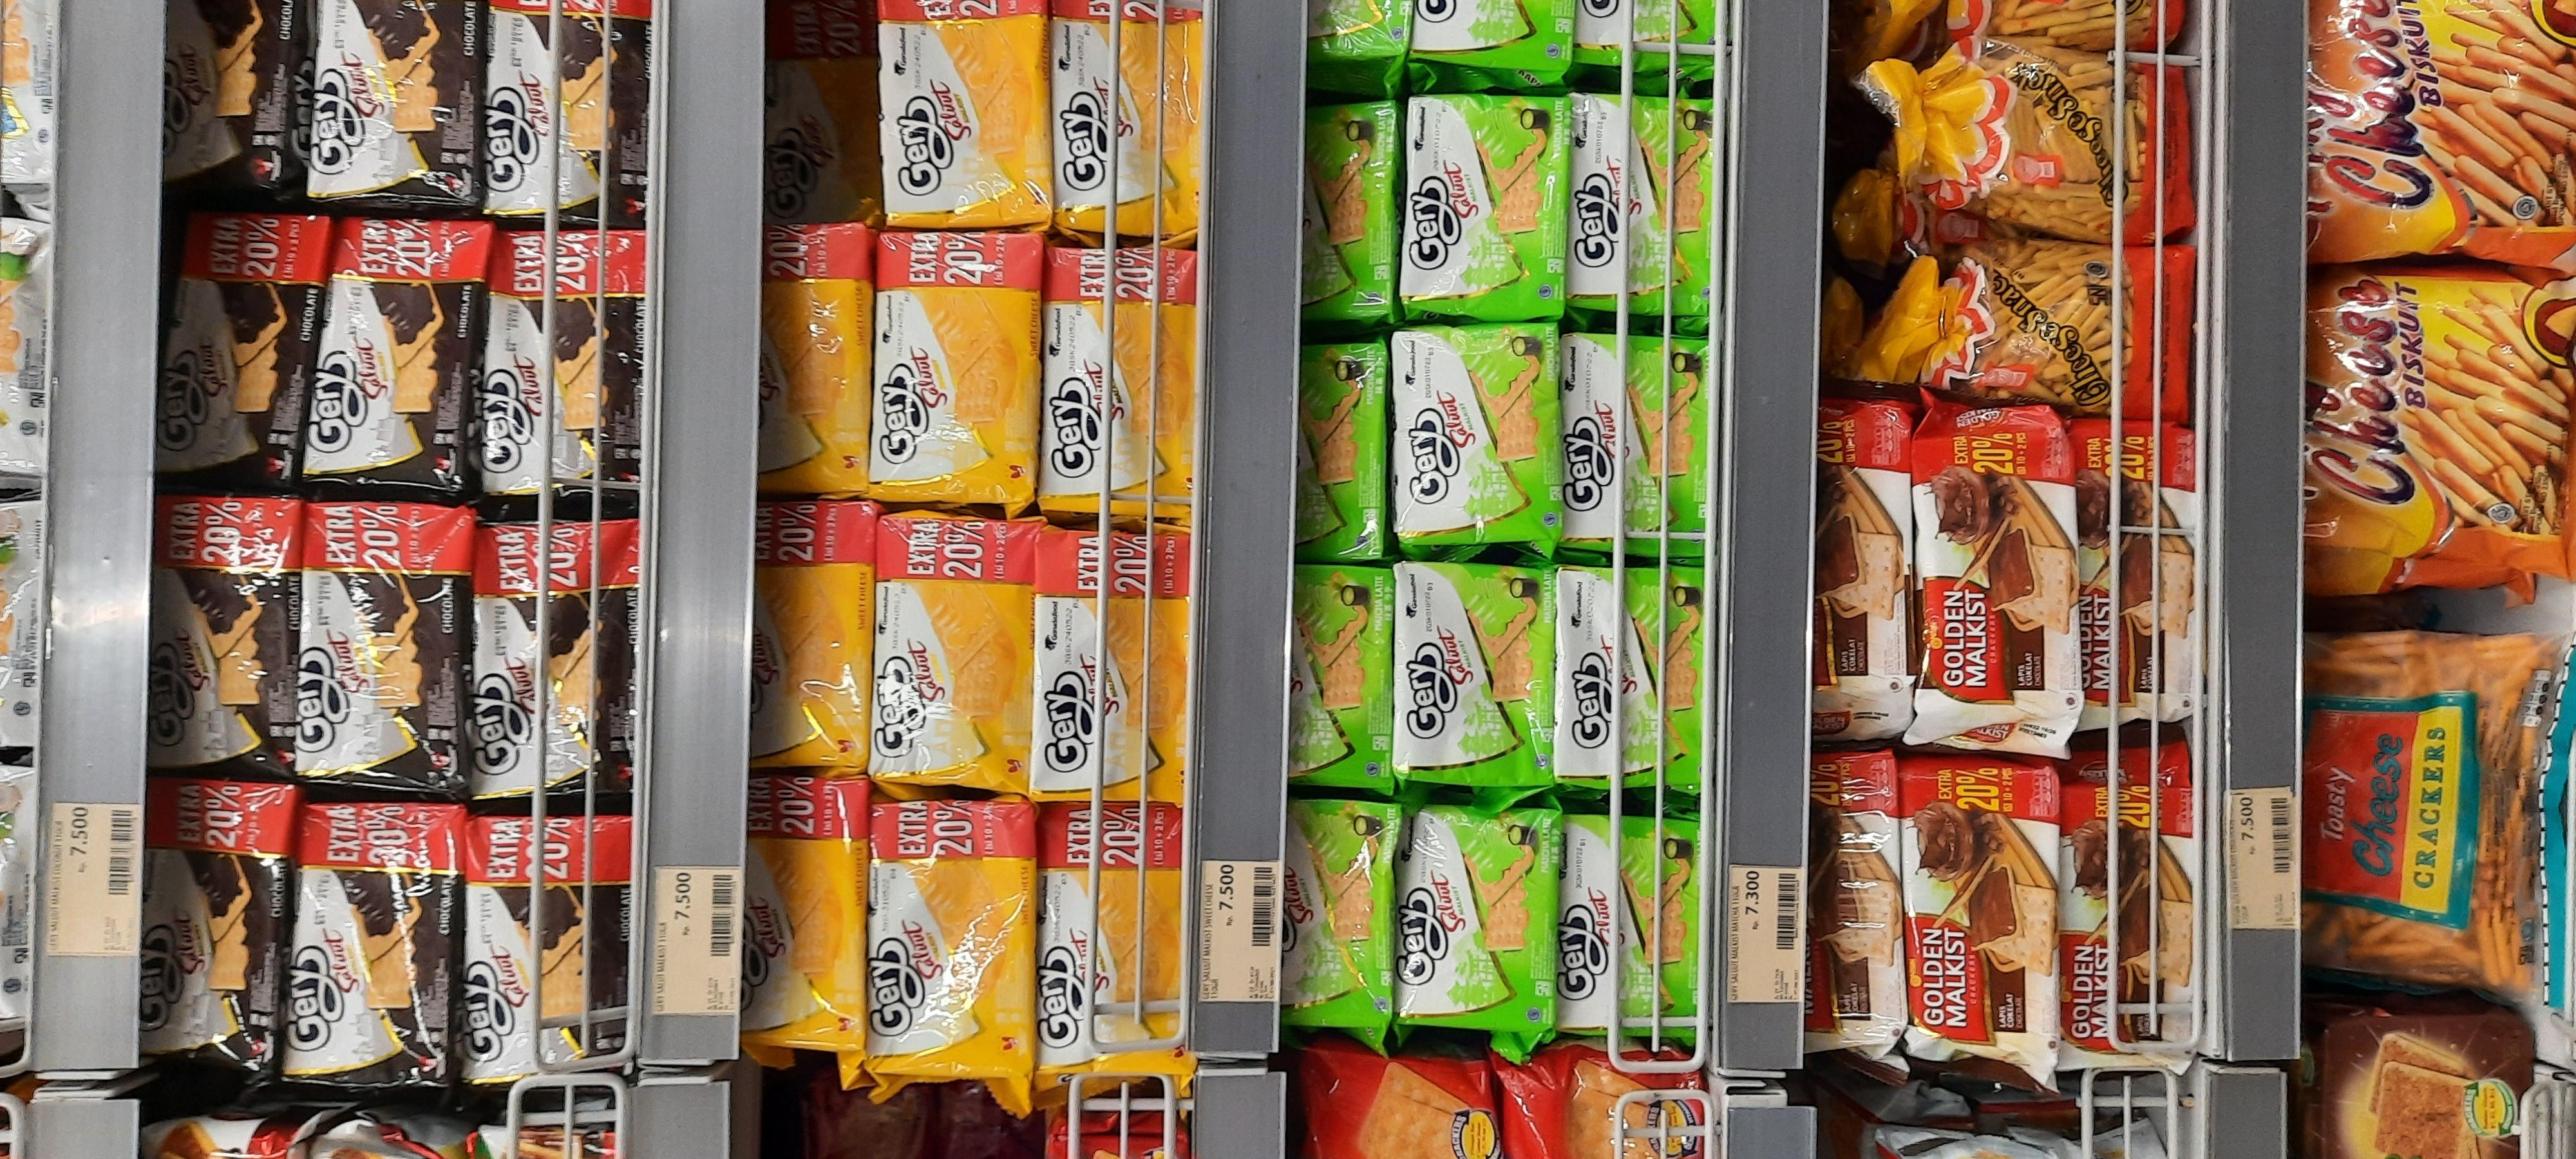90101225202100: (306, 502, 465, 791), (471, 806, 631, 1093), (159, 215, 319, 502), (143, 496, 301, 785), (131, 790, 289, 1079), (483, 218, 641, 507), (476, 509, 634, 796), (287, 799, 445, 1087), (306, 205, 463, 492), (480, 0, 651, 218), (306, 0, 462, 218), (156, 0, 307, 204)
90101225205100: (1035, 803, 1193, 1074), (1042, 251, 1199, 522), (874, 522, 1030, 793), (1030, 520, 1186, 791), (874, 801, 1030, 1072), (879, 235, 1035, 506), (1048, 0, 1211, 233), (884, 0, 1040, 230), (748, 501, 874, 776), (752, 230, 879, 506), (743, 776, 869, 1051), (766, 0, 881, 218)
90101225212100: (1393, 563, 1557, 786), (1398, 97, 1562, 320), (1387, 327, 1551, 550), (1559, 95, 1722, 320), (1559, 560, 1722, 783), (1552, 813, 1715, 1036), (1396, 813, 1559, 1036), (1554, 320, 1717, 543), (1286, 806, 1396, 1029)
CheeseBiskuit: (2305, 276, 2576, 579), (2300, 0, 2576, 261)
CheeseSnack: (1874, 59, 2192, 227), (1878, 228, 2195, 396)
NissinGoldenMalkistChocolate: (1916, 402, 2077, 755), (1906, 762, 2065, 1080), (2067, 754, 2206, 1069), (2075, 415, 2210, 735)
ToastyCheeseCrackers: (2305, 634, 2569, 1000)
